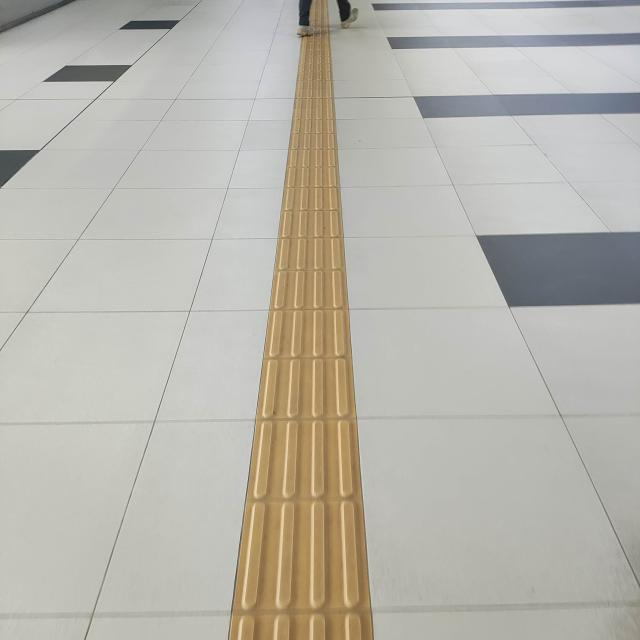lurus: (254, 31, 354, 640)
